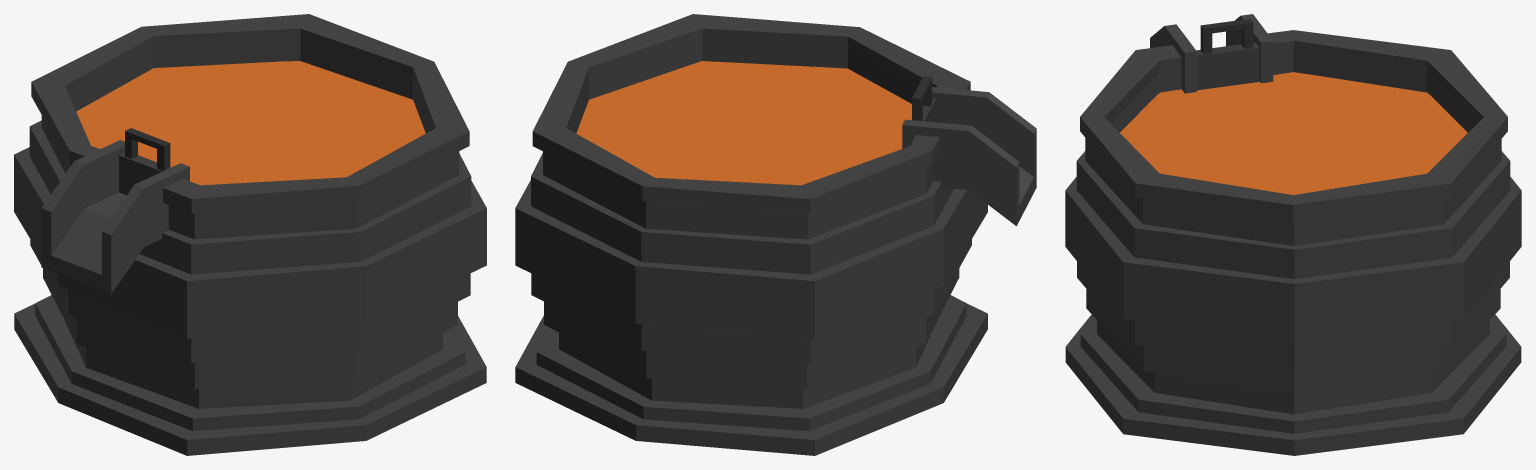
Rendered from boiler_level_1.fbx.
3 renders of one model, left to right at view 1: azimuth 30°, elevation 25°; view 2: azimuth 150°, elevation 25°; view 3: azimuth 270°, elevation 25°, orthographic.
Visible parts, largest first — view 1: Cube.002, Cube.004; view 2: Cube.002, Cube.004; view 3: Cube.002, Cube.004.
Boxes of the visible parts, x1,y1,x2,y2 form: Cube.002: (14, 14, 486, 455); Cube.004: (119, 128, 170, 195); Cube.002: (515, 14, 1036, 455); Cube.004: (912, 76, 935, 122); Cube.002: (1065, 14, 1521, 455); Cube.004: (1196, 18, 1259, 90).
Size of the model in its own units: 171 by 105 by 159.
